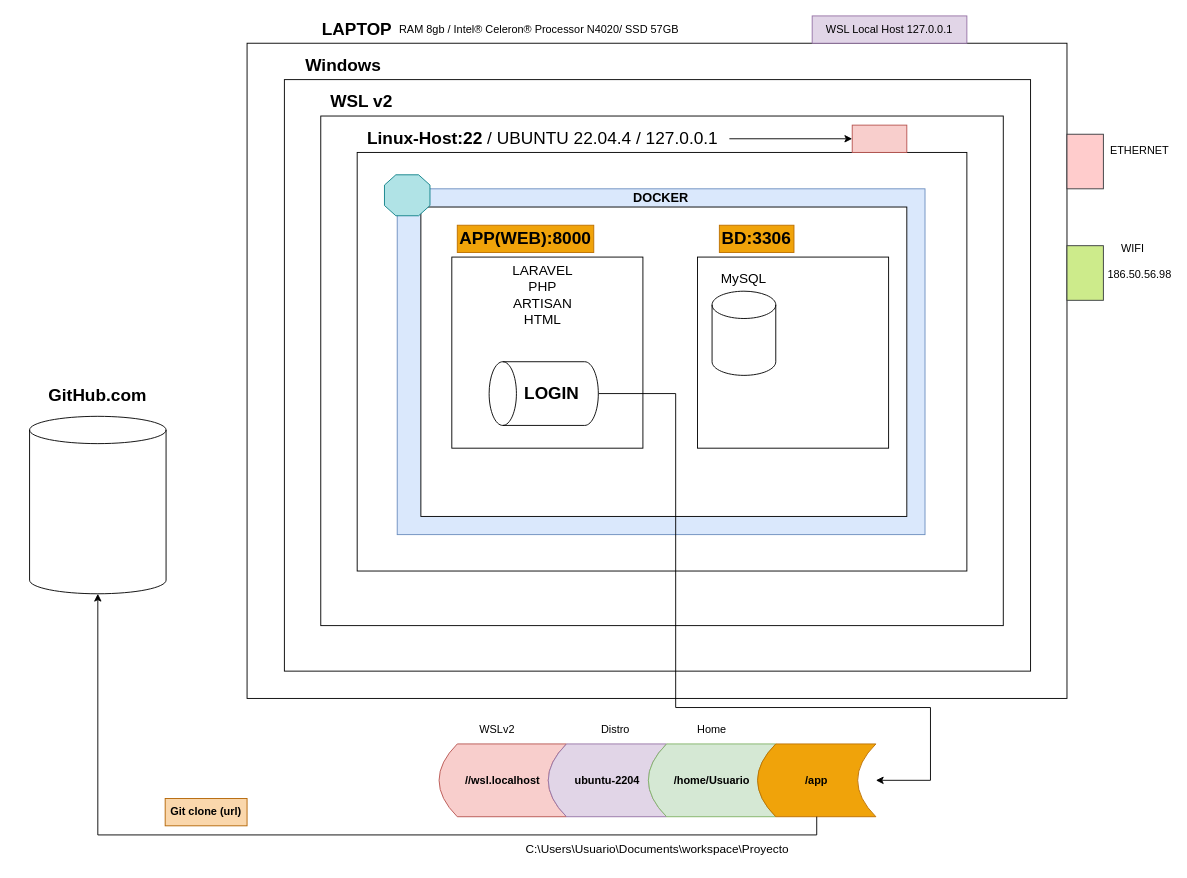
Image size: 1187x878. Some labels were removed from this diagram. Each missing label, with the centre of its shape:
BD: (743,332)
NS: (407,195)
REPOSITORIO: (97,504)
SSH:22: (879,138)
